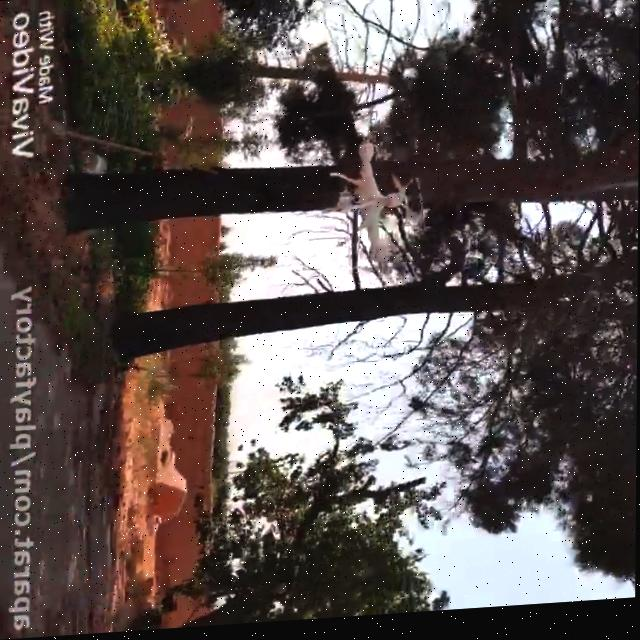drone: (329, 131, 426, 291)
